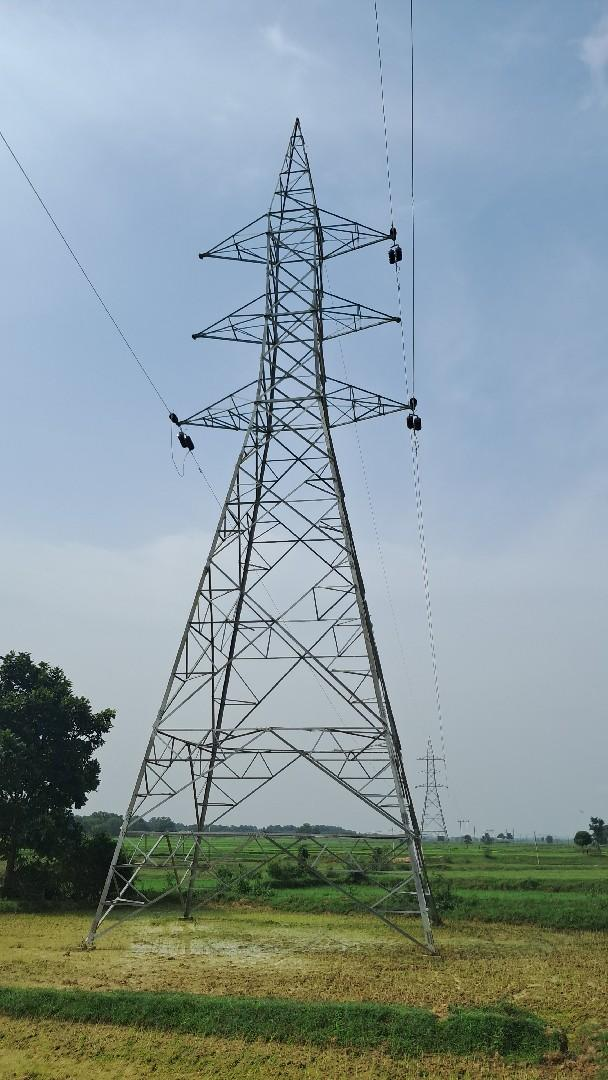GSM Antenna: (90, 106, 437, 904)
